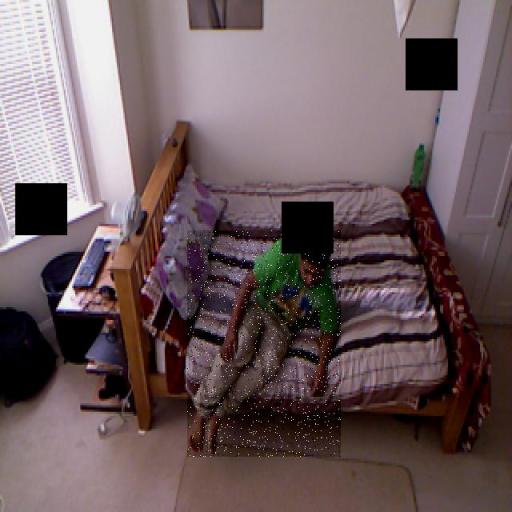Fall: (187, 230, 341, 457)
